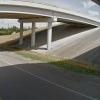Bridge: (2, 2, 95, 35)
